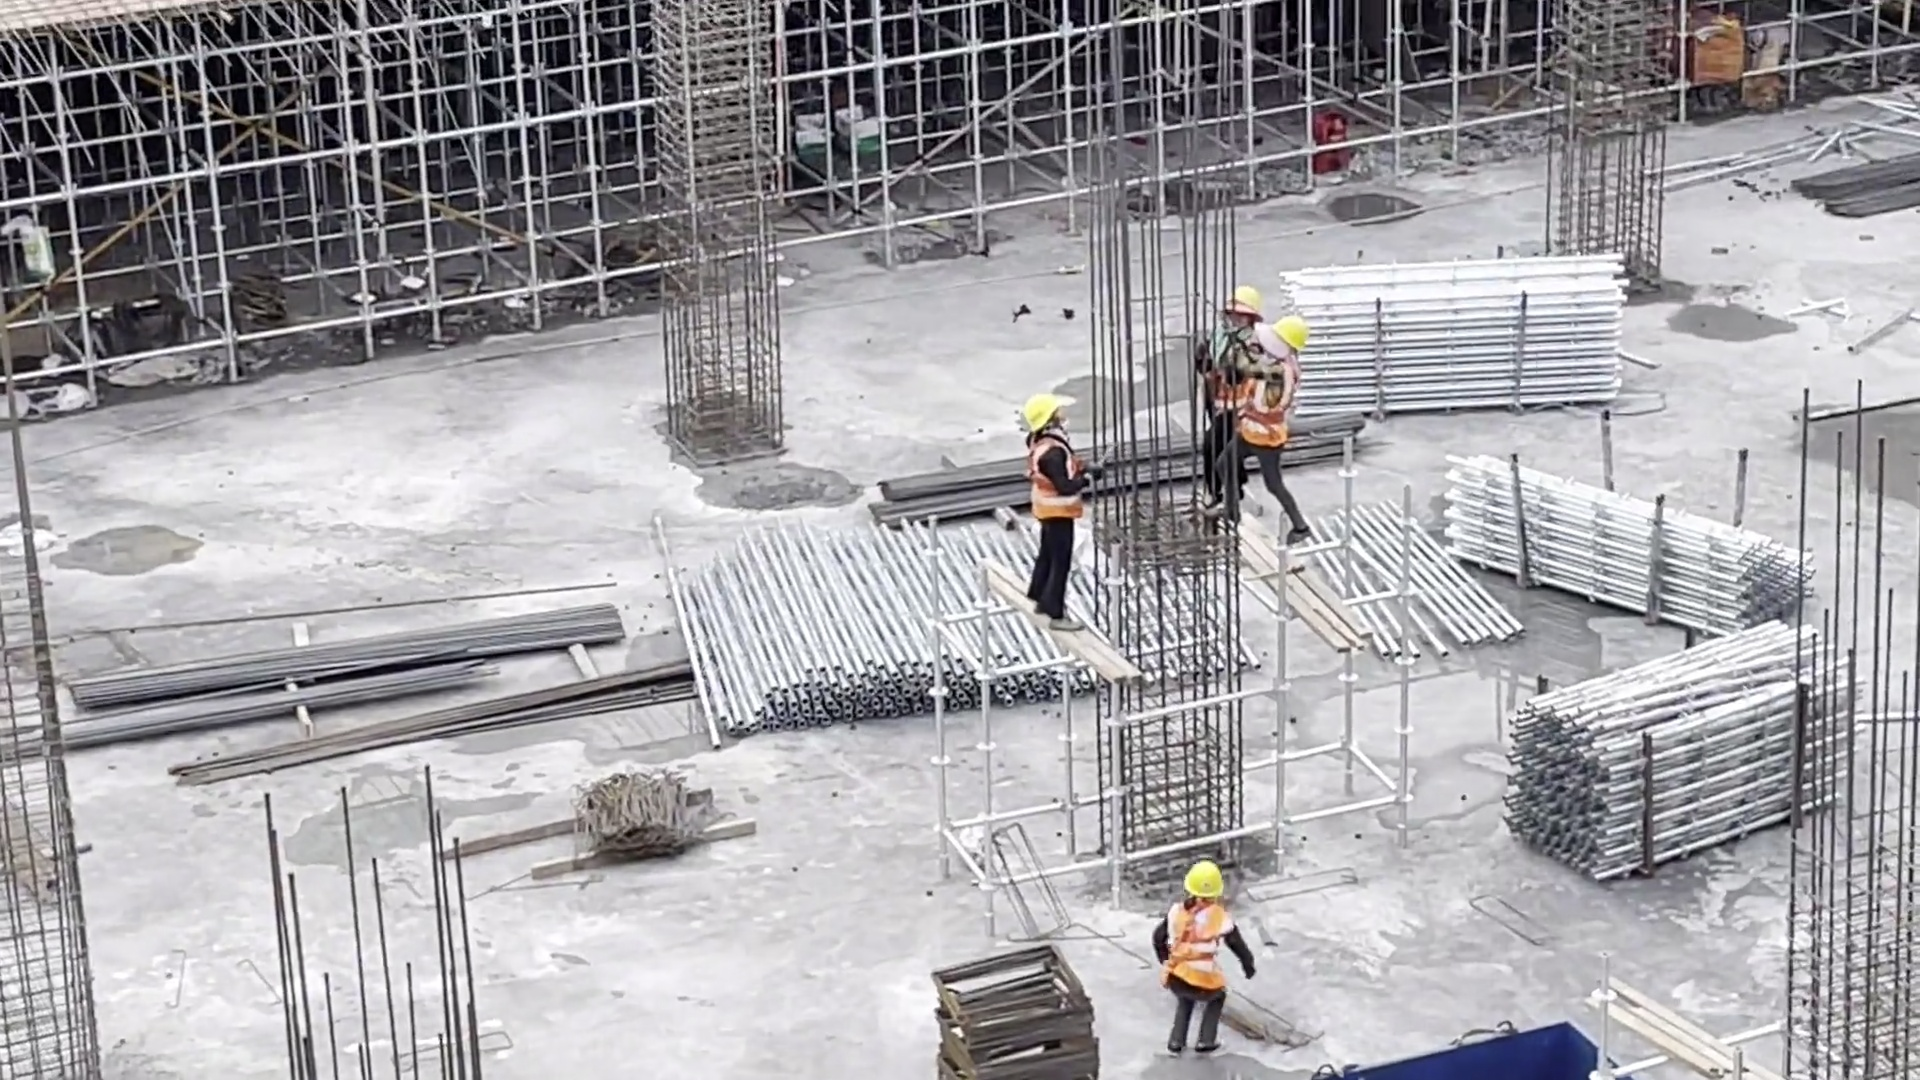helmet: (1022, 391, 1070, 423), (1186, 865, 1222, 895), (1278, 313, 1308, 350), (1232, 286, 1255, 316)
hopper: (1288, 1020, 1646, 1080)
person: (1011, 387, 1096, 641), (1151, 858, 1258, 1053), (1237, 313, 1310, 548), (1195, 286, 1259, 502)
rebar: (206, 669, 697, 797), (863, 420, 1386, 534), (7, 667, 489, 782), (82, 613, 622, 713), (1795, 151, 1920, 220)
scaffold: (666, 498, 1095, 730), (1496, 616, 1851, 882), (1438, 446, 1813, 638), (1256, 256, 1645, 439)
vest: (1171, 895, 1229, 995), (1022, 434, 1086, 520), (1248, 357, 1299, 456), (1210, 345, 1252, 411)
